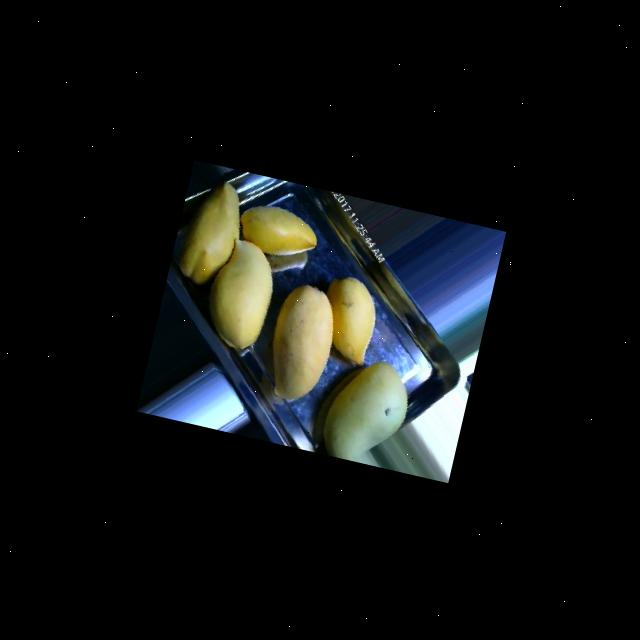Mango: (316, 349, 416, 468), (258, 277, 343, 406), (198, 233, 282, 353), (173, 173, 250, 290), (311, 270, 384, 365), (234, 197, 322, 263), (262, 240, 310, 278)
